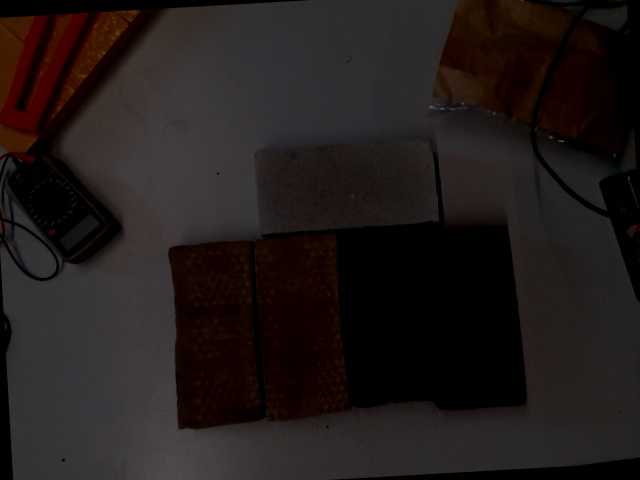brick: (251, 234, 350, 417), (254, 136, 437, 235), (166, 244, 262, 428), (426, 226, 522, 407), (339, 227, 437, 404)
